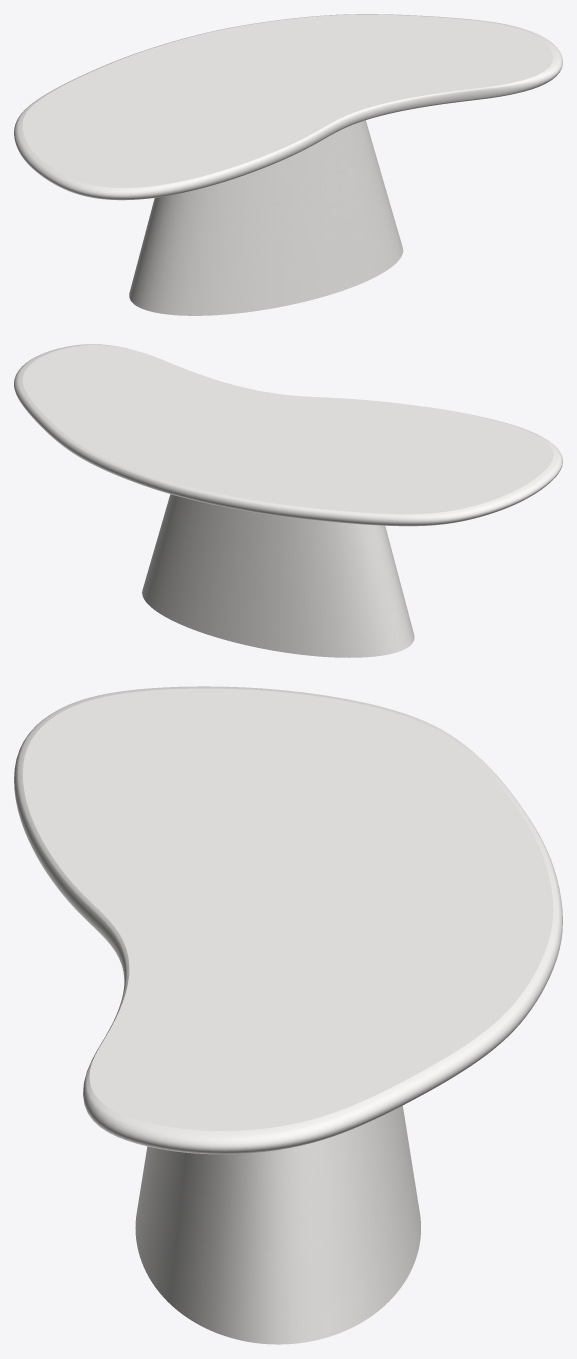
File: purewhite_leaf1_round_eqone.glb
3 renders of one model, top to bottom at view 1: azimuth 30°, elevation 25°; view 2: azimuth 150°, elevation 25°; view 3: azimuth 270°, elevation 25°, orthographic. The views are drawn at different scales.
Visible parts, largest first — view 1: round_leaf1, eqone; view 2: round_leaf1, eqone; view 3: round_leaf1, eqone.
Part boxes in pixels (x1=…): round_leaf1: x1=14, y1=14, x2=562, y2=200; eqone: x1=129, y1=120, x2=403, y2=315; round_leaf1: x1=14, y1=344, x2=562, y2=526; eqone: x1=142, y1=494, x2=414, y2=657; round_leaf1: x1=14, y1=686, x2=562, y2=1154; eqone: x1=135, y1=1106, x2=420, y2=1344.
Bounding box in the file's own units: 7.5 × 2.51 × 3.8.
Materials: 1 (1 with a texture image).
